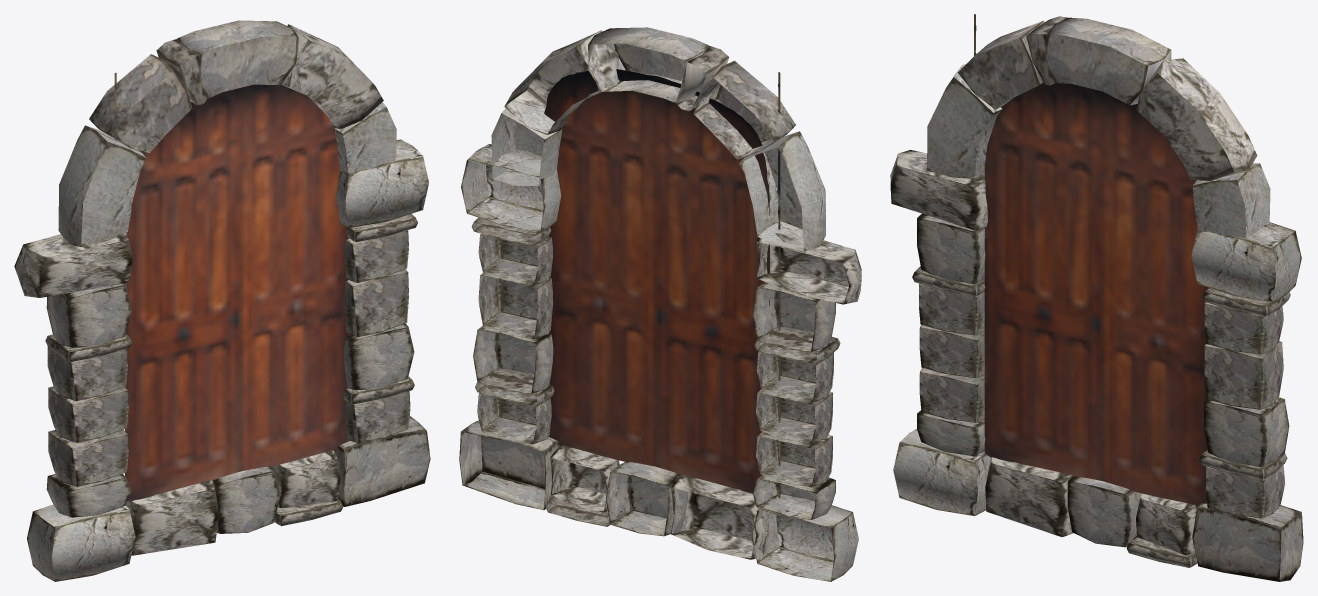
The model's file is door05.FBX.
3 renders of one model, left to right at view 1: azimuth 30°, elevation 25°; view 2: azimuth 150°, elevation 25°; view 3: azimuth 330°, elevation 25°, orthographic. The views are drawn at different scales.
Visible parts, largest first — view 1: door05; view 2: door05; view 3: door05.
Part boxes in pixels (left/top/right/bottom): door05: left=14, top=20, right=430, bottom=581; door05: left=459, top=27, right=861, bottom=581; door05: left=890, top=14, right=1303, bottom=581.
Size of the model in its own units: 249 by 29.59 by 299.
